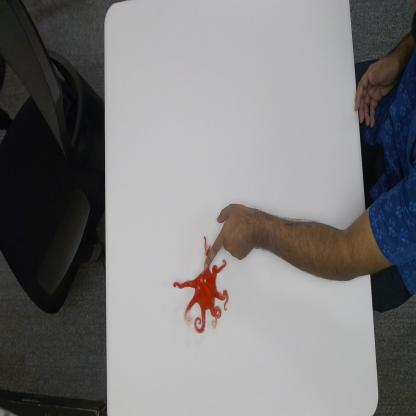Arm: (264, 198, 386, 284)
Hand: (204, 201, 265, 272)
Octopus: (173, 233, 230, 336)
